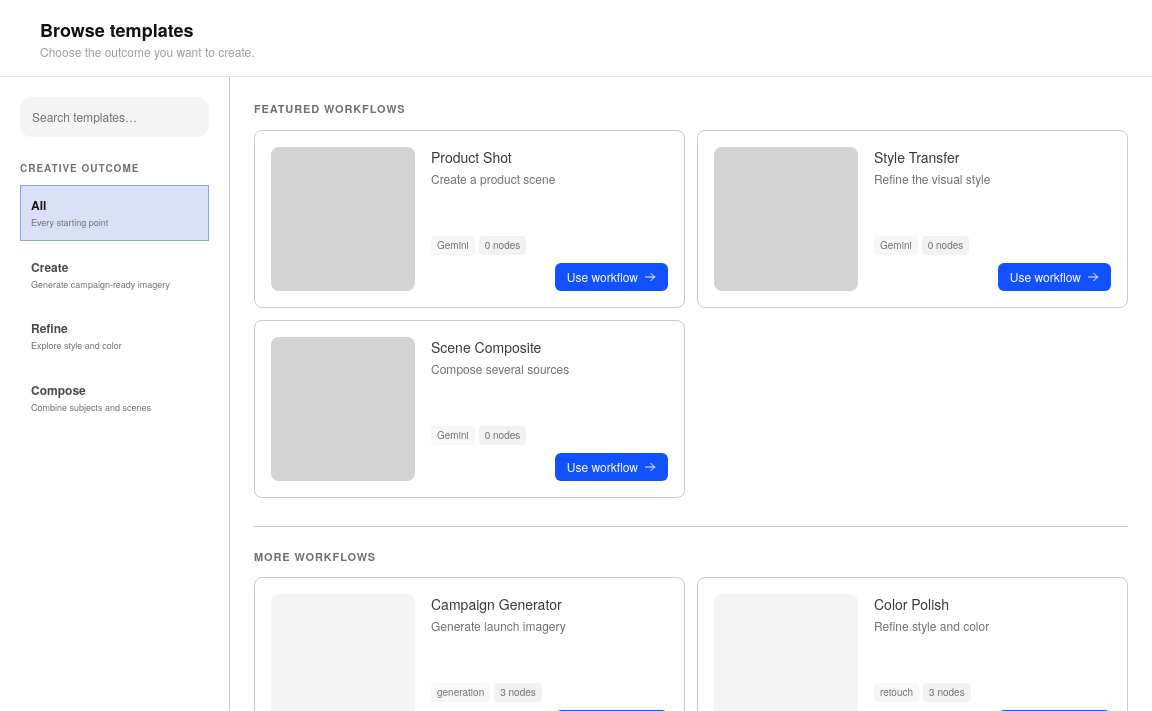
it: TemplateExplorerView outcomes › applies Create, Refine, and Compose outcomes consistently to classified community workflows
Expected: the heading "Campaign Generator" is shown, x1=431 y1=594 x2=562 y2=614
Click the button "Create Generate campaign-ready imagery".
click(114, 274)  # box x1=20 y1=246 x2=209 y2=302
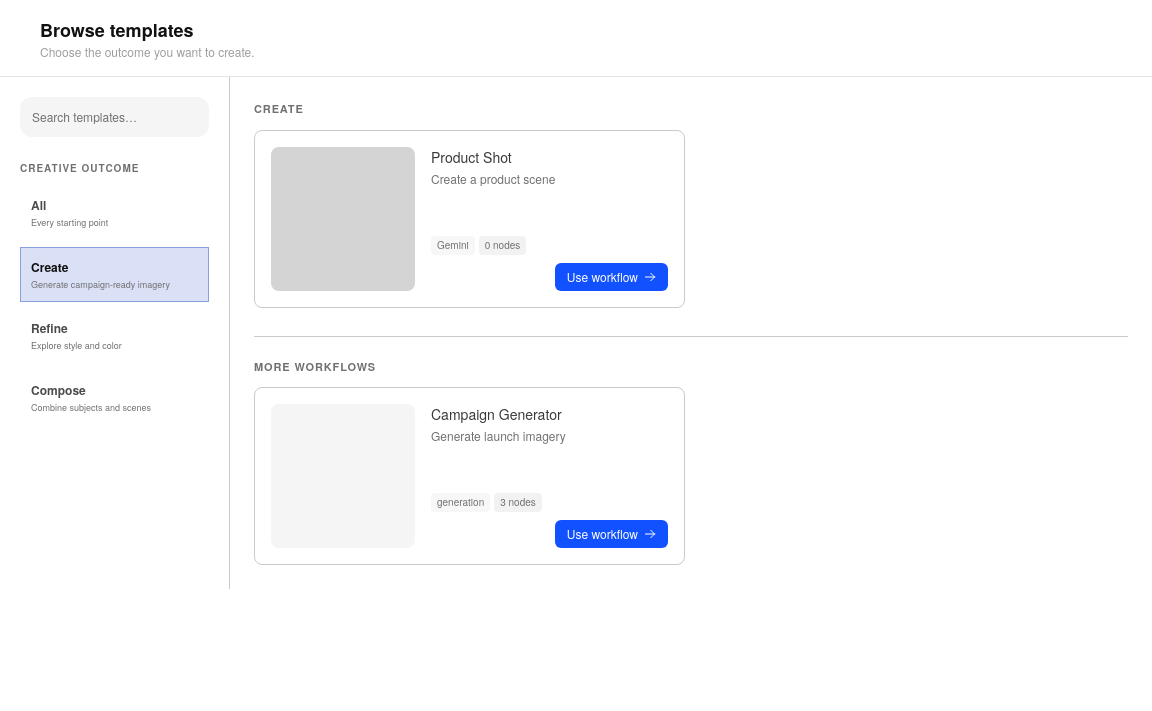
Expected: the heading "Campaign Generator" is shown, x1=431 y1=404 x2=562 y2=424
Expected: the heading "Color Polish" is gone
Click the button "Refine Explore style and color".
click(114, 336)  # box x1=20 y1=308 x2=209 y2=364
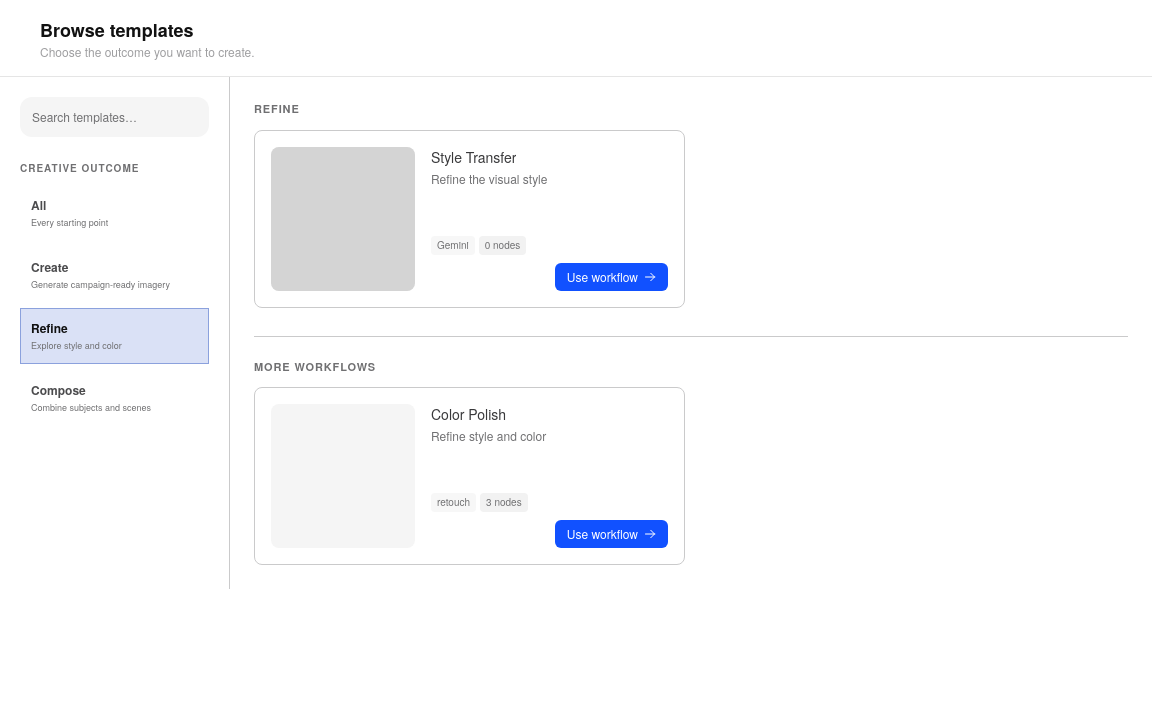
Expected: the text "Community Scene Builder" is not shown
Expected: the heading "Color Polish" is shown, x1=431 y1=404 x2=506 y2=424
Expected: the heading "Campaign Generator" is gone
Click the button "Compose Combine subjects and scenes".
click(114, 397)  # box x1=20 y1=370 x2=209 y2=425
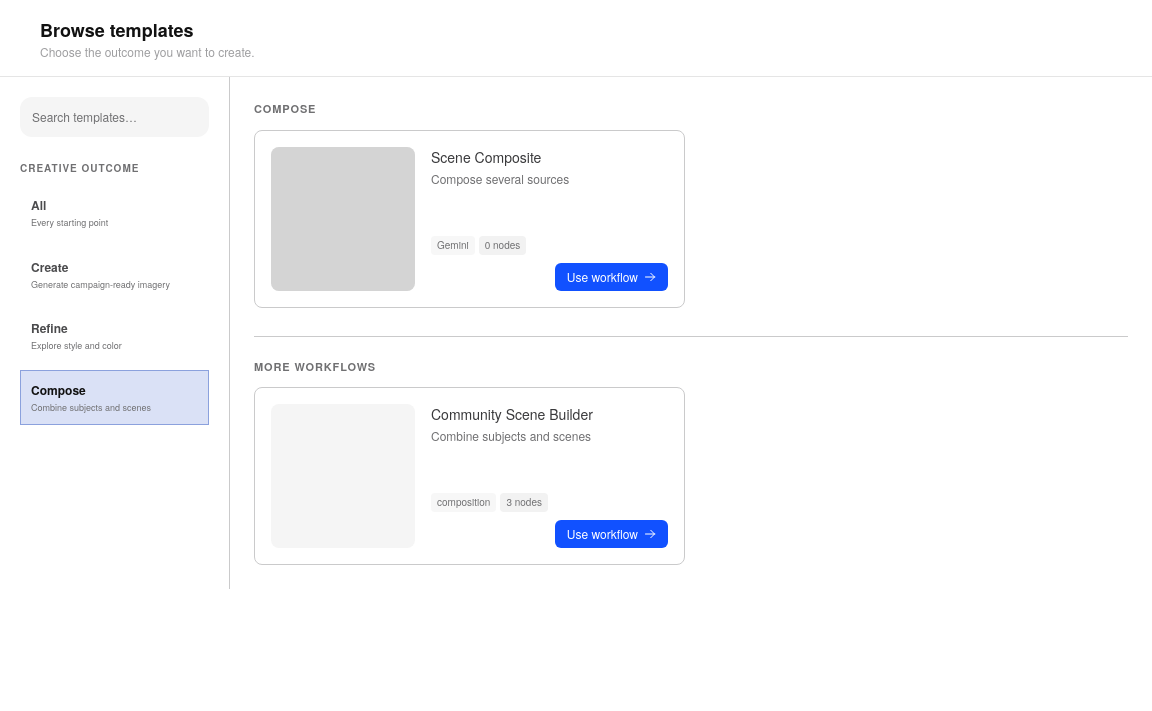
Expected: the heading "Campaign Generator" is not shown
Expected: the heading "Community Scene Builder" is shown, x1=431 y1=404 x2=593 y2=424
Expected: the heading "Color Polish" is gone
